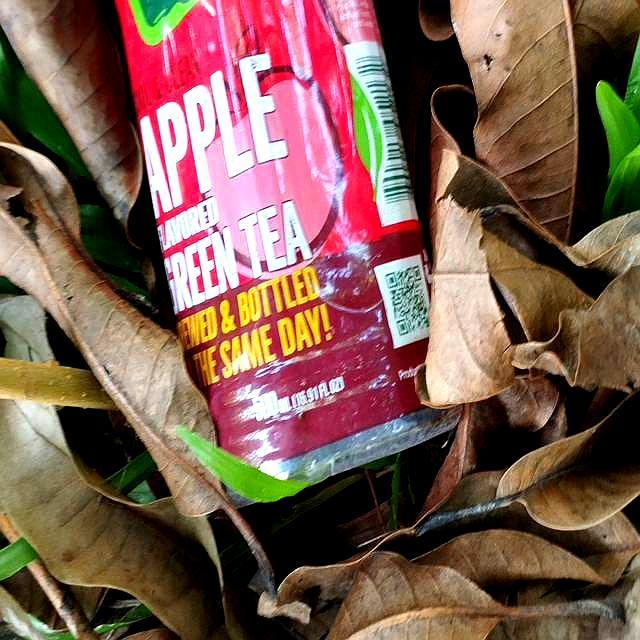Non-biodegradable: (112, 1, 458, 487)
